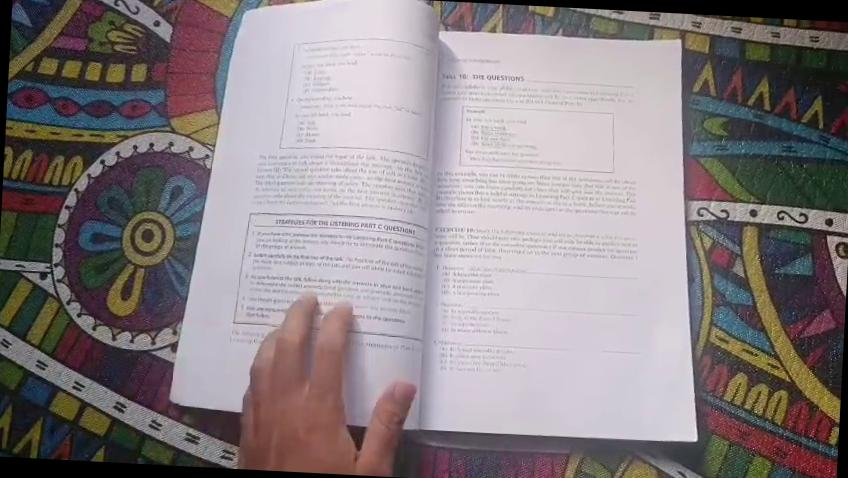Kertas: (421, 30, 680, 440), (226, 0, 449, 295)
